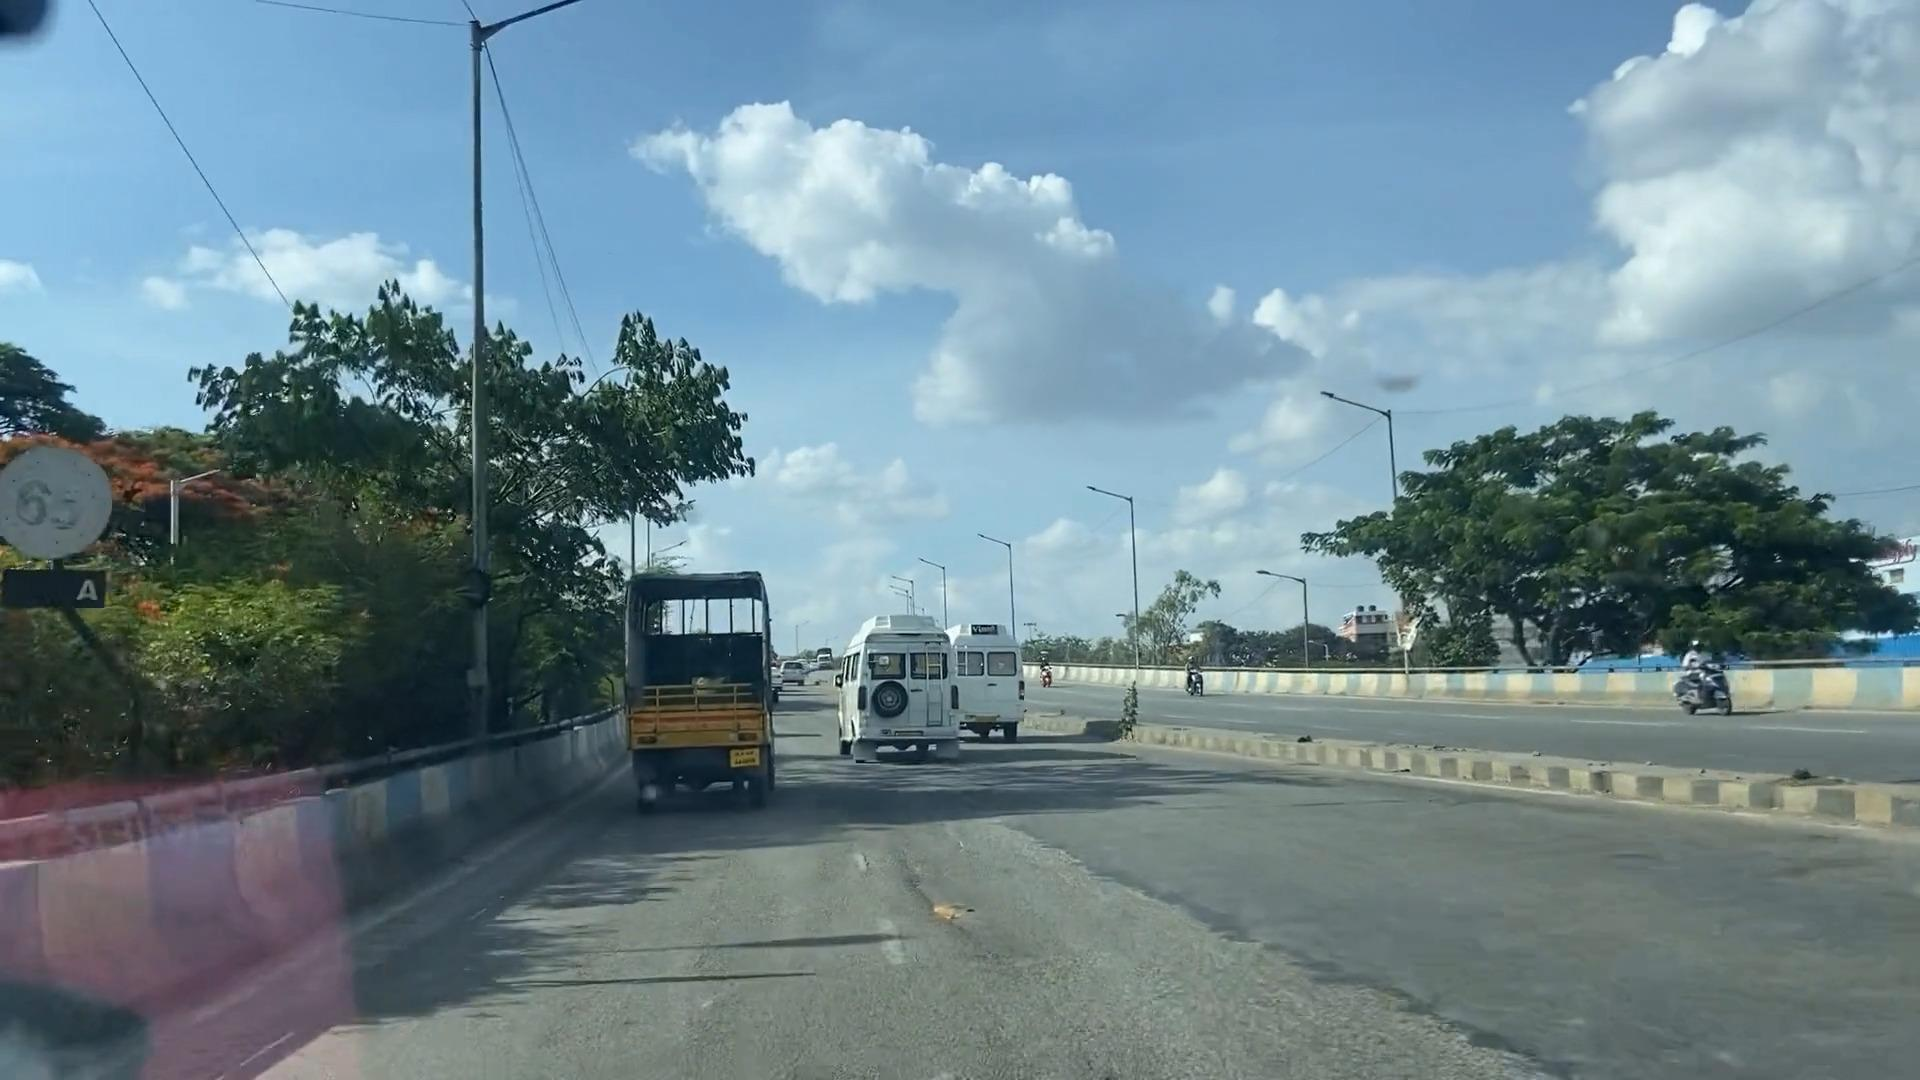HMV: (629, 558, 783, 796), (844, 607, 965, 766)
RoadDamages: (1075, 885, 1375, 1080), (914, 855, 994, 961)
